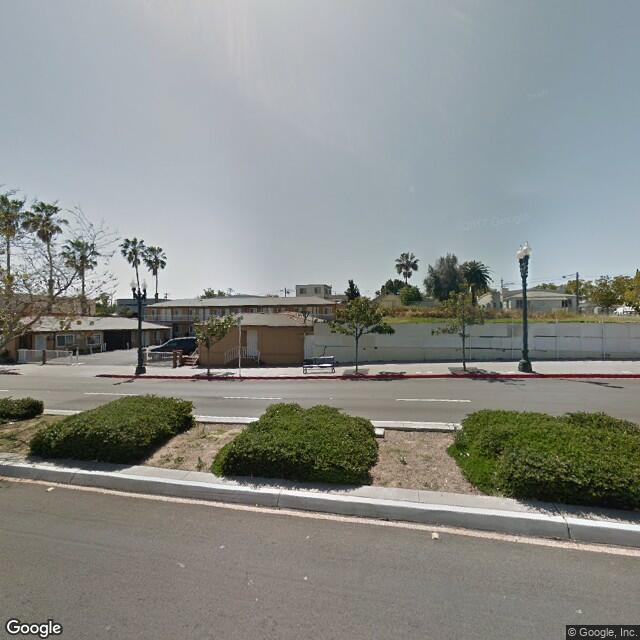litter: (427, 528, 451, 544), (42, 484, 55, 499)
